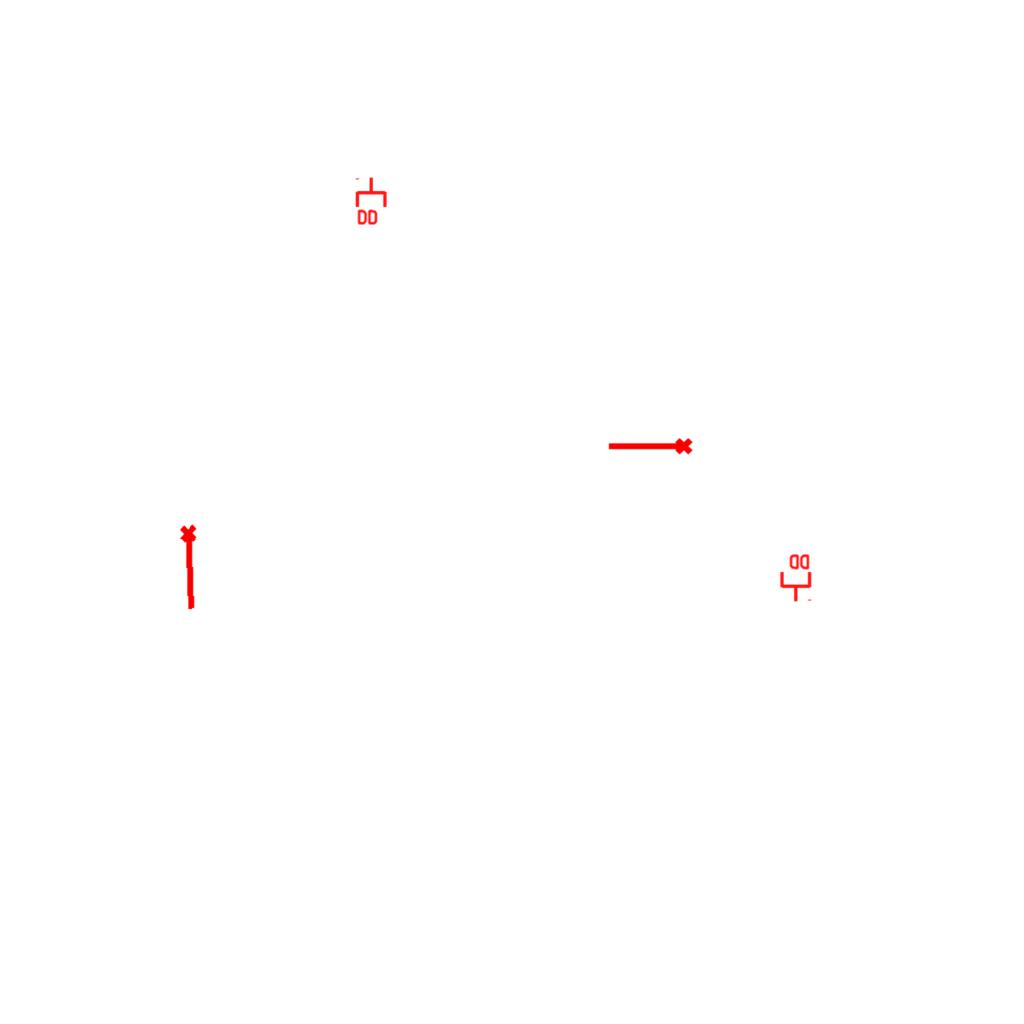ASR_Ansaugoeffnung: (177, 523, 205, 612), (606, 436, 694, 459)
Datenanschluss_zweifach: (778, 552, 812, 603), (355, 176, 389, 227)
